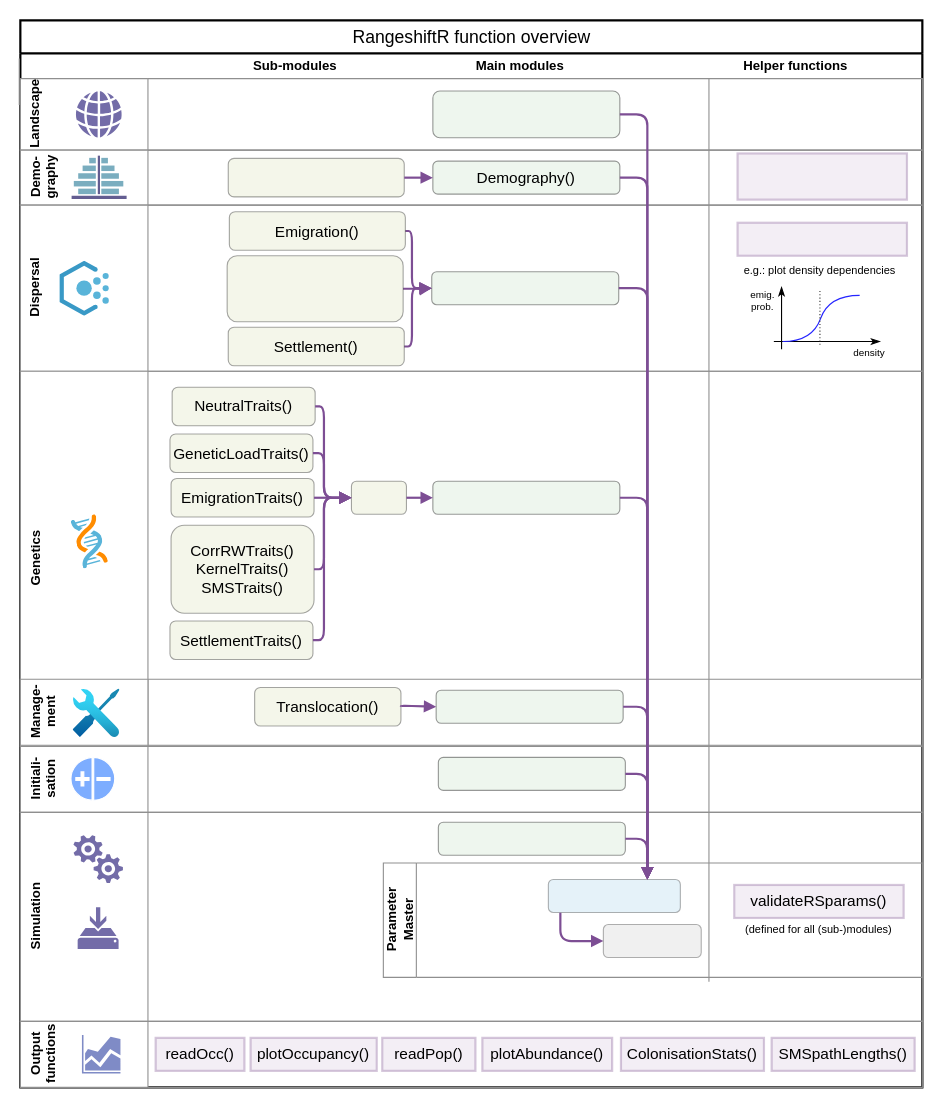
This 943x1107 diagram has some shape labels left out. Each missing label, with the centre of its shape:
Dispersal(): point 525,288
DispersalKernel() SMS() CorrRW(): point 314,288
Genetics(): point 526,497
getLocalisedEquilPop() plotProbs(): point 822,176
ImportedLandscape( ) ArtificialLandscape(): point 526,114
Initialise(): point 531,773
Management(): point 529,706
plotProbs(): point 822,238
RSsim(): point 613,895
RunRS(): point 651,940
Simulation(): point 531,838
StageStructure(): point 315,177
Traits(): point 378,497
